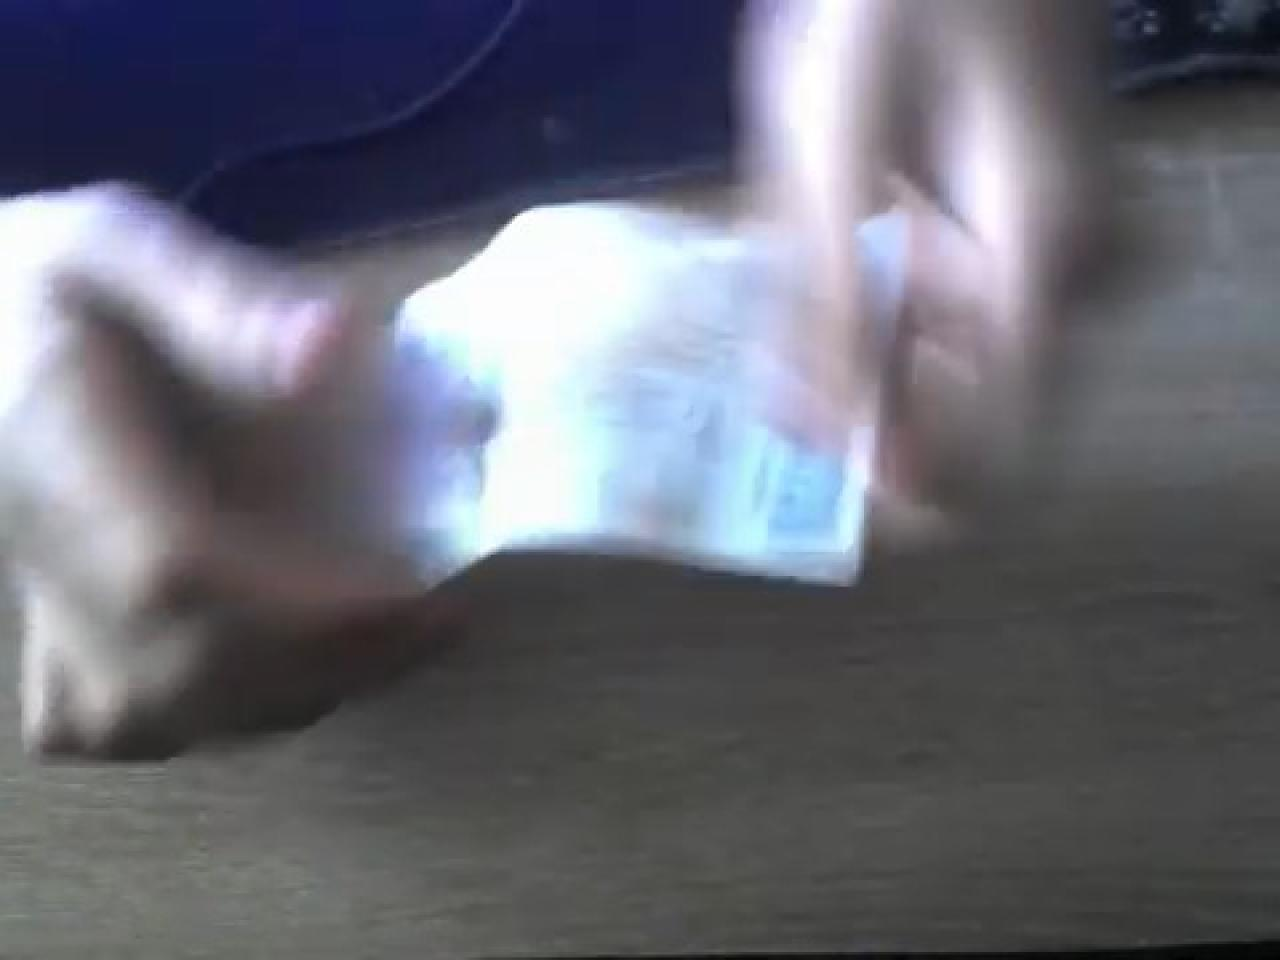20leva: (290, 168, 896, 611)
